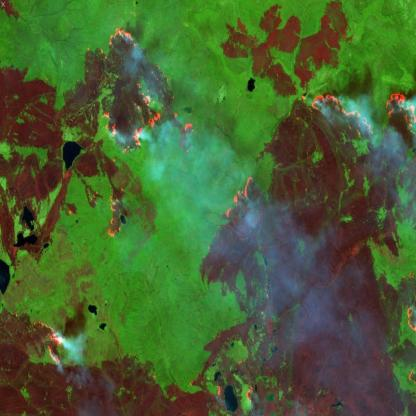fire: (102, 25, 195, 240), (309, 86, 416, 144), (32, 316, 66, 369), (225, 172, 258, 223), (401, 306, 416, 389)
